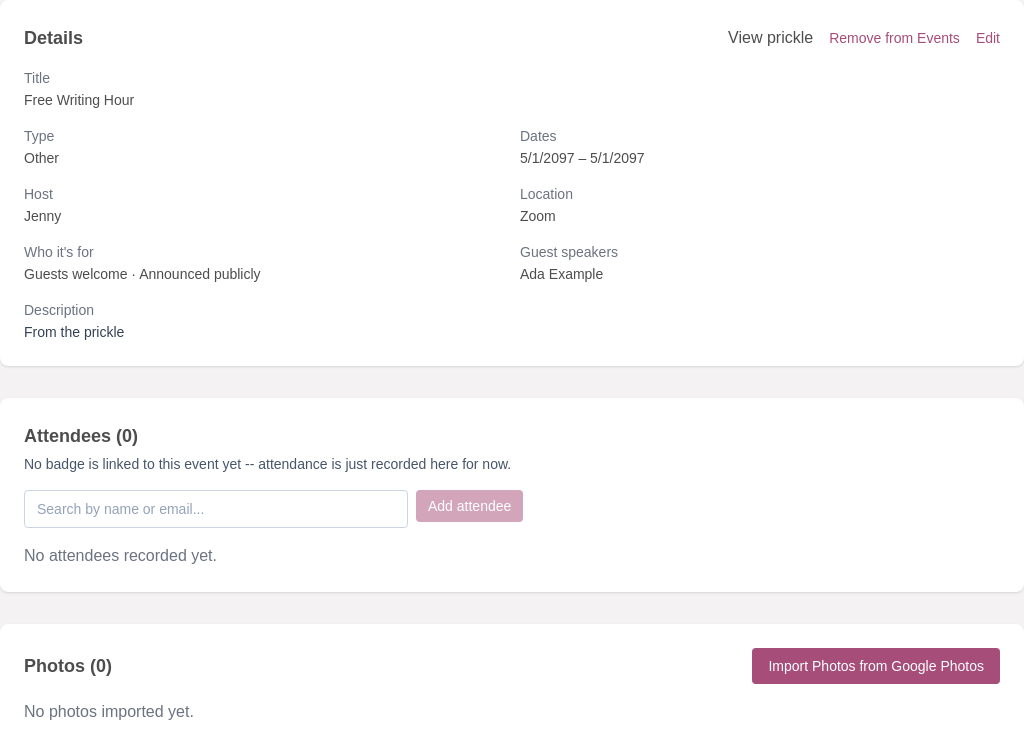
Test: admin event on a calendar prickle › marks what was set by hand, from the server
Click the button "Edit" at (988, 38), box 976,26 -> 1000,50
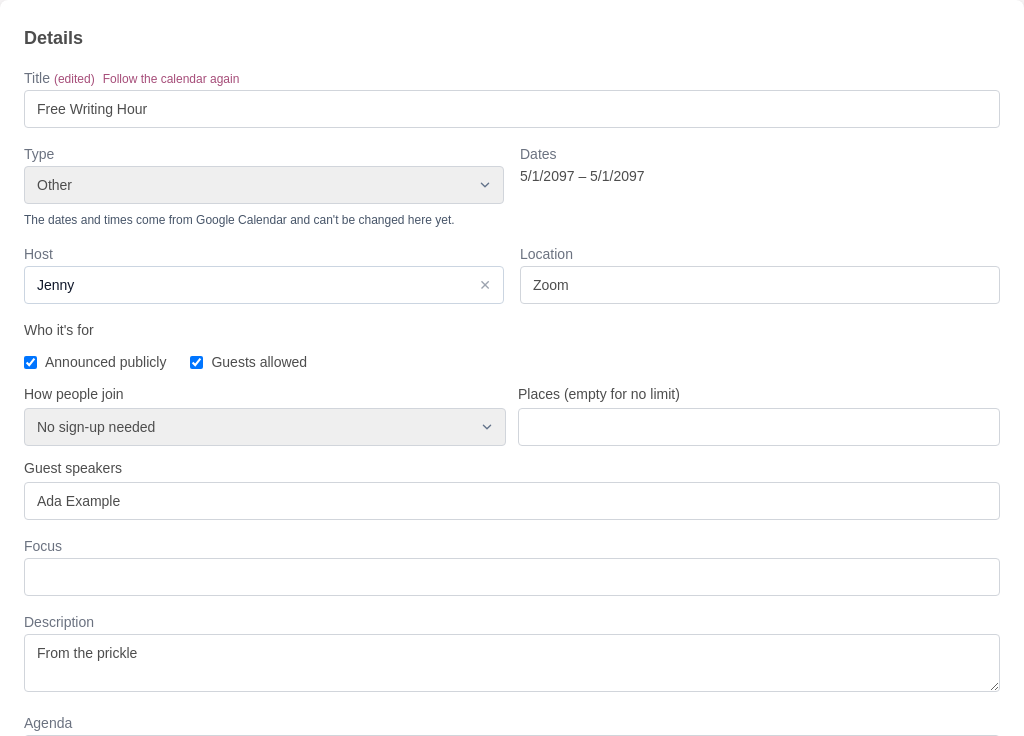
Result: the text "(edited)" is shown at 54,72 -> 95,86
Result: the button "Follow the calendar again" is shown at 103,71 -> 239,87
